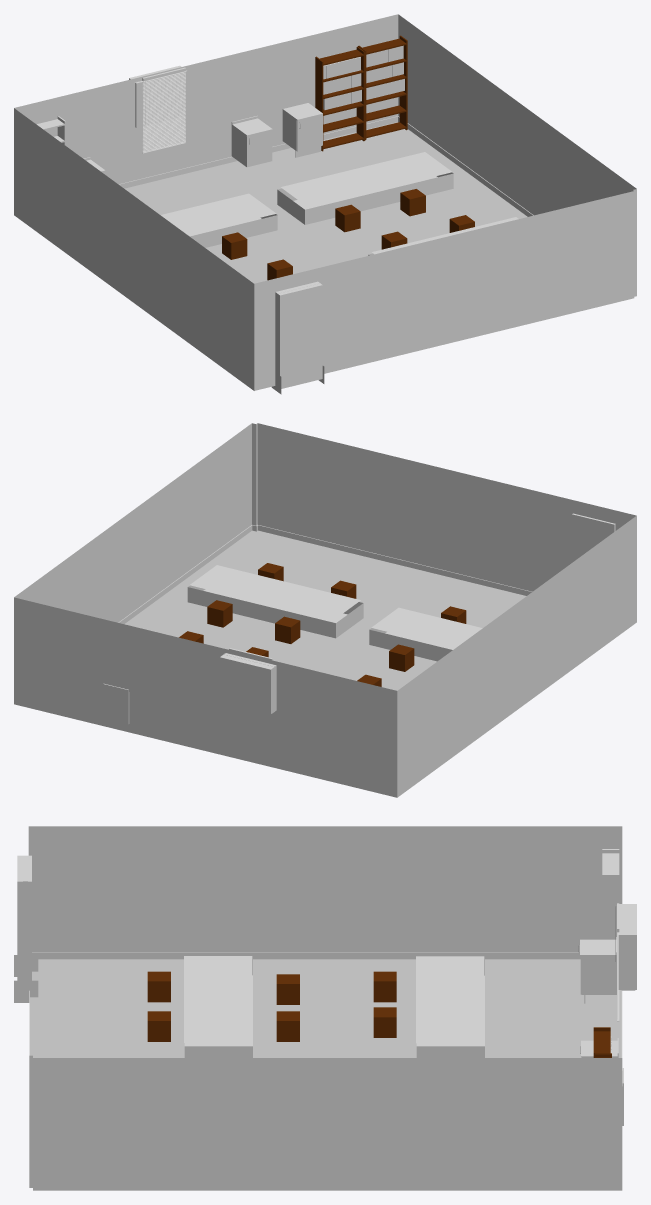
Rendered from room2.fbx.
The picture shows the model from 3 angles, top to bottom: view 1: azimuth 30°, elevation 25°; view 2: azimuth 150°, elevation 25°; view 3: azimuth 270°, elevation 25°; orthographic projection. The views are drawn at different scales.
Visible parts, largest first — view 1: Room, Floor, Cube.001, CTRL_Hole, Cube, Venetian_slats, Baseboard, Shelves1.001, CTRL_Hole.001, Shelves1, Cabinet1_Door.001, Cabinet1_Door (+4 smaller); view 2: Room, Floor, Cube.002, Baseboard, Cube.003, CTRL_Hole.001, CTRL_Hole, Cabinet1, Cube.015, Cube.012, Cube.014; view 3: Room, Floor, Cube.003, Cube, Baseboard, CTRL_Hole, Shelves1.002, Cabinet1.002, CTRL_Hole.001, Cube.010, Cube.004, Cube.013 (+5 smaller).
Boxes of the visible parts, <box> form: Room: <box>14,14,636,390</box>; Floor: <box>124,122,527,283</box>; Cube.001: <box>277,152,453,224</box>; CTRL_Hole: <box>275,281,322,388</box>; Cube: <box>160,193,277,247</box>; Venetian_slats: <box>143,71,185,152</box>; Baseboard: <box>14,116,636,390</box>; Shelves1.001: <box>315,46,364,151</box>; CTRL_Hole.001: <box>129,65,187,127</box>; Shelves1: <box>358,35,407,140</box>; Cabinet1_Door.001: <box>246,130,272,167</box>; Cabinet1_Door: <box>297,114,322,151</box>; Room: <box>14,423,636,797</box>; Floor: <box>124,530,526,690</box>; Cube.002: <box>187,565,363,638</box>; Baseboard: <box>14,525,635,796</box>; Cube.003: <box>369,607,482,661</box>; CTRL_Hole.001: <box>220,653,275,713</box>; CTRL_Hole: <box>572,513,615,562</box>; Cabinet1: <box>103,687,129,724</box>; Cube.015: <box>207,600,232,627</box>; Cube.012: <box>389,644,414,671</box>; Cube.014: <box>275,616,300,643</box>; Room: <box>28,826,622,1190</box>; Floor: <box>30,959,621,1057</box>; Cube.003: <box>184,956,252,1057</box>; Cube: <box>416,956,484,1057</box>; Baseboard: <box>29,952,622,1190</box>; CTRL_Hole: <box>17,855,31,997</box>; Shelves1.002: <box>602,849,619,939</box>; Cabinet1.002: <box>581,956,616,994</box>; CTRL_Hole.001: <box>618,904,636,989</box>; Cube.010: <box>147,971,170,1002</box>; Cube.004: <box>373,971,396,1002</box>; Cube.013: <box>276,974,299,1004</box>.
Bounding box in the file's own units: 900 × 250 × 1023.
